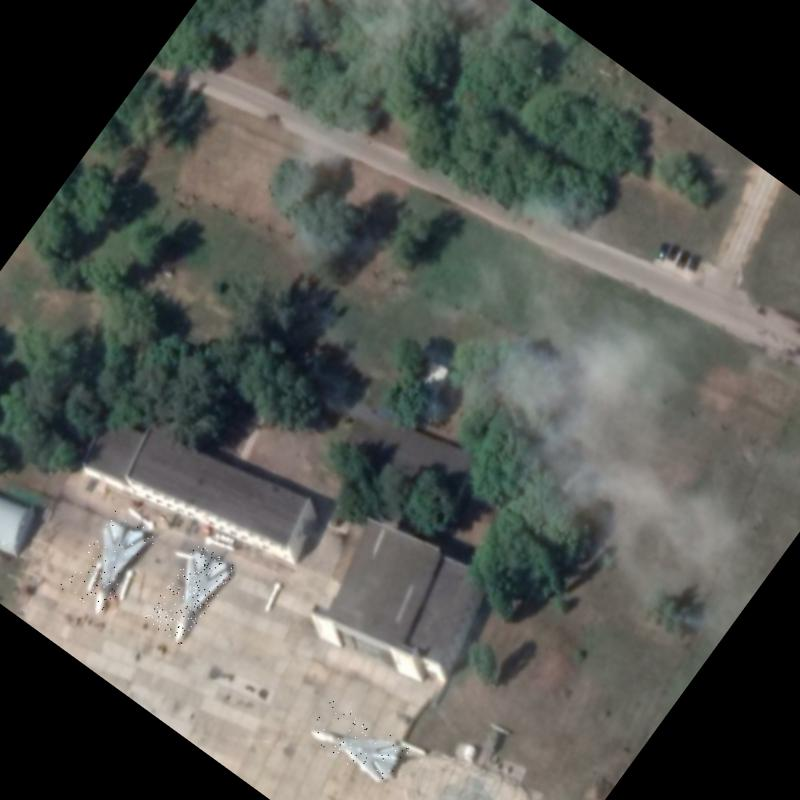A20: (58, 508, 158, 618), (306, 695, 412, 790), (142, 541, 237, 646)
